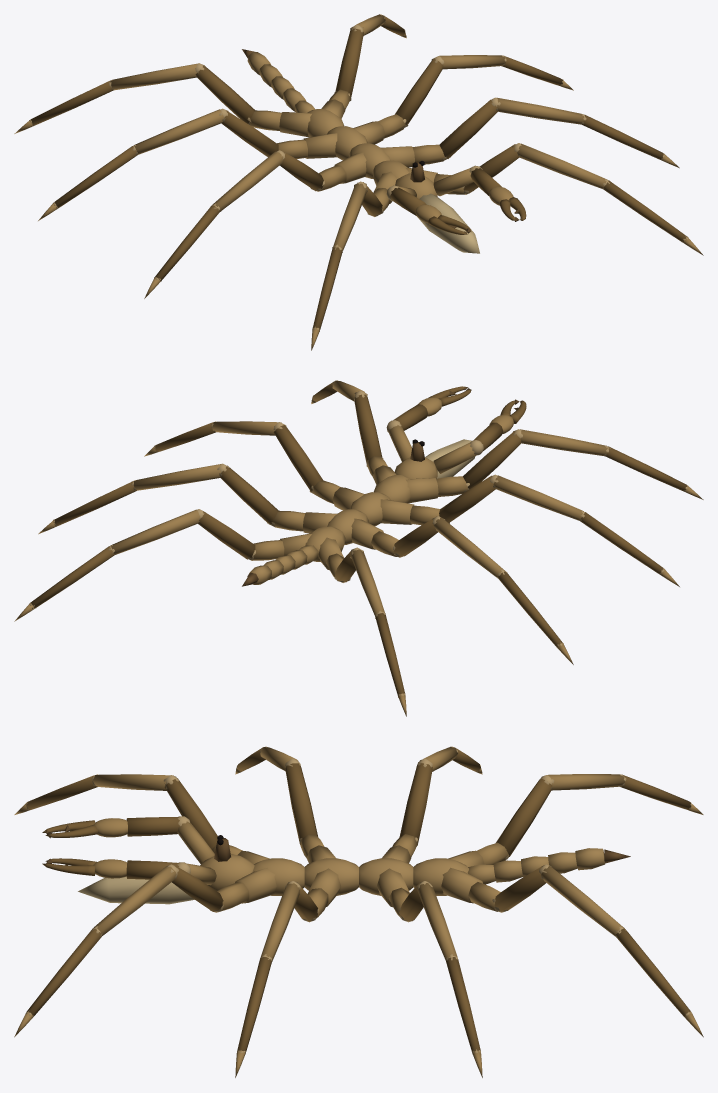
The model's file is HaliestesDasos.fbx.
3 views of the same model, one above another, from view 1: azimuth 30°, elevation 25°; view 2: azimuth 150°, elevation 25°; view 3: azimuth 270°, elevation 25° (orthographic). The views are drawn at different scales.
Visible parts, largest first — view 1: HaliestesDasos; view 2: HaliestesDasos; view 3: HaliestesDasos.
Part boxes in pixels (<box>): HaliestesDasos: <box>14,14,703,350</box>; HaliestesDasos: <box>14,380,703,716</box>; HaliestesDasos: <box>14,746,703,1077</box>.
Size of the model in its own units: 1.58 by 0.2598 by 1.52.
